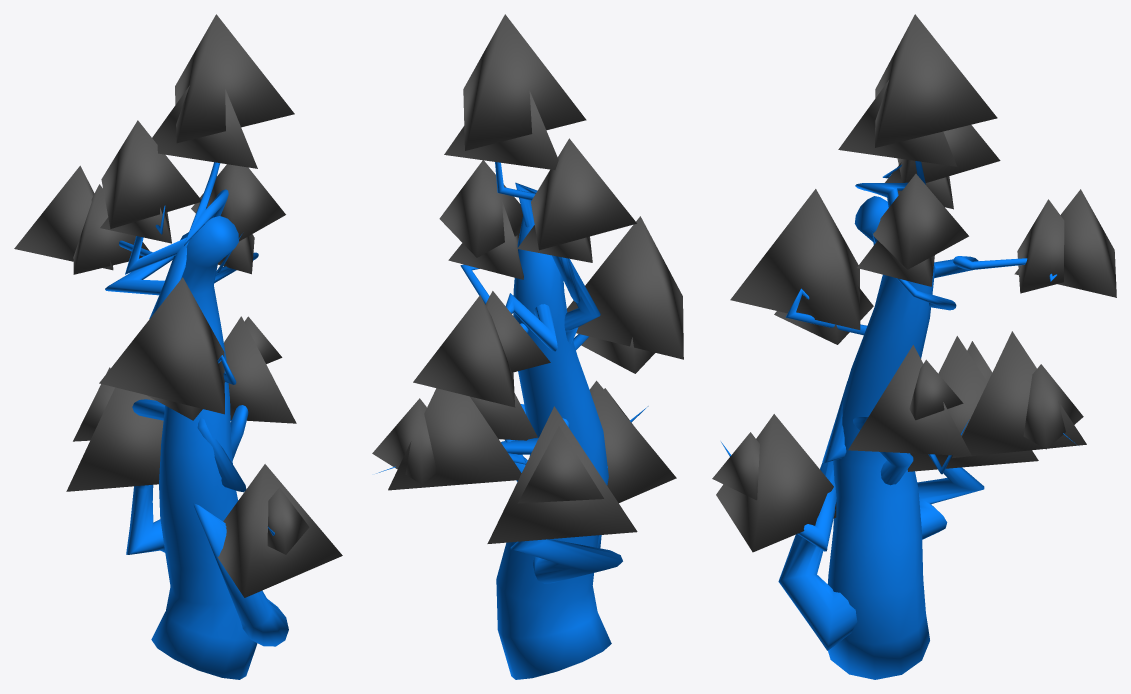
Rendered from NayleeTree.fbx.
The picture shows the model from 3 angles, left to right: view 1: azimuth 30°, elevation 25°; view 2: azimuth 150°, elevation 25°; view 3: azimuth 270°, elevation 25°; orthographic projection. The views are drawn at different scales.
Parts seen in each view (by area): view 1: merge1; view 2: merge1; view 3: merge1.
Part boxes in pixels (x1,y1,x2,y2): merge1: (14, 14, 342, 679); merge1: (372, 14, 683, 679); merge1: (712, 14, 1116, 679).
Size of the model in its own units: 5.43 by 15.79 by 8.73.
